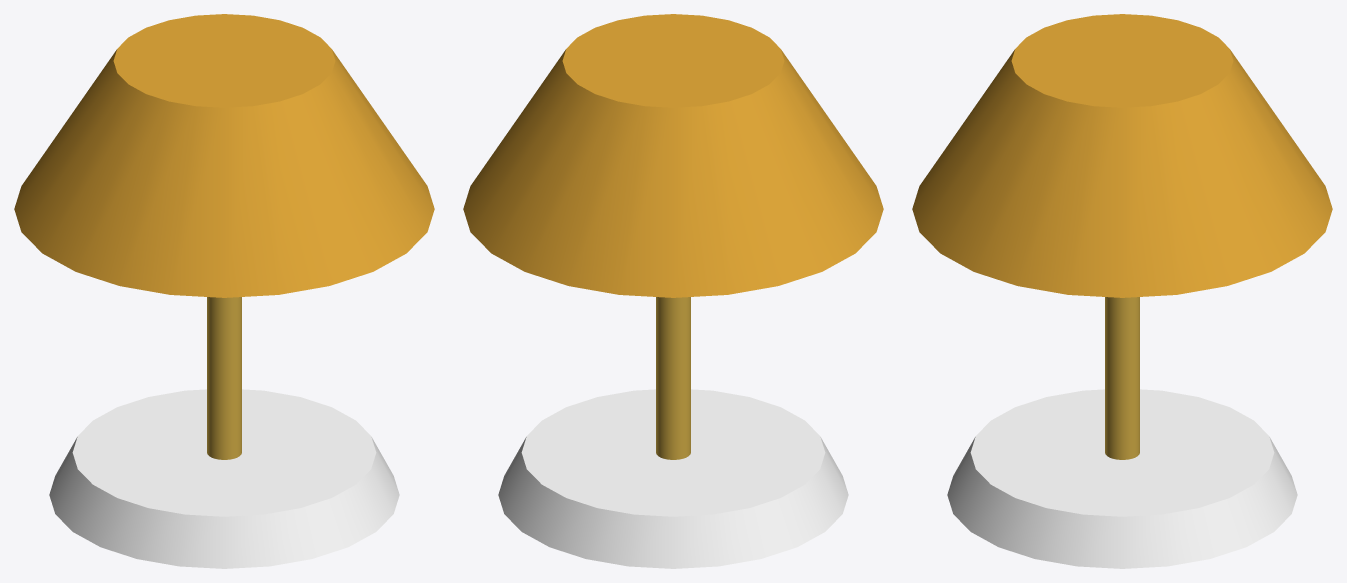
The model's file is lampara.glb.
3 renders of one model, left to right at view 1: azimuth 30°, elevation 25°; view 2: azimuth 150°, elevation 25°; view 3: azimuth 270°, elevation 25°, orthographic.
Visible parts, largest first — view 1: Pantalla, Base, Pie; view 2: Pantalla, Base, Pie; view 3: Pantalla, Base, Pie.
Boxes of the visible parts, left/top/right/bottom form: Pantalla: left=14, top=14, right=434, bottom=297; Base: left=49, top=389, right=399, bottom=568; Pie: left=207, top=297, right=241, bottom=459; Pantalla: left=463, top=14, right=883, bottom=297; Base: left=498, top=389, right=848, bottom=568; Pie: left=656, top=297, right=690, bottom=459; Pantalla: left=912, top=14, right=1332, bottom=297; Base: left=947, top=389, right=1297, bottom=568; Pie: left=1105, top=297, right=1139, bottom=459.
Bounding box in the file's own units: 0.72 × 0.82 × 0.72.
